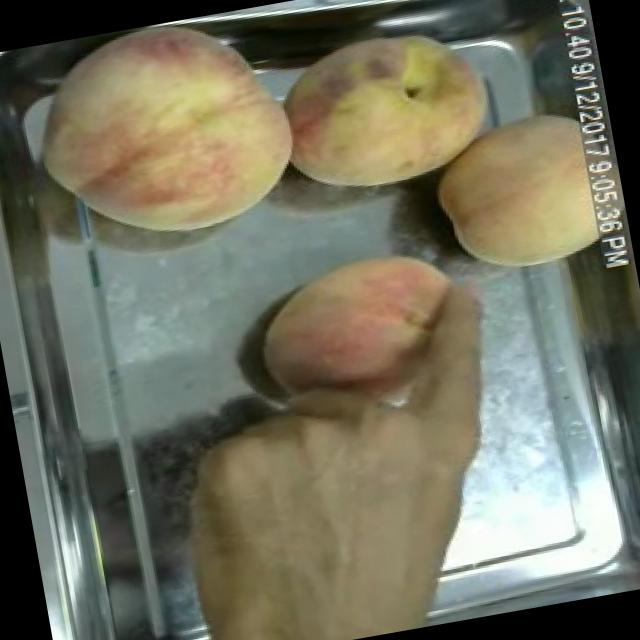Fruit: (146, 367, 478, 640), (0, 4, 316, 275), (255, 2, 510, 215), (233, 230, 480, 436), (417, 98, 608, 292)
